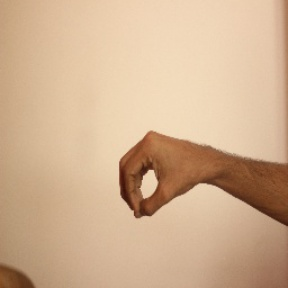O: (116, 126, 196, 222)
